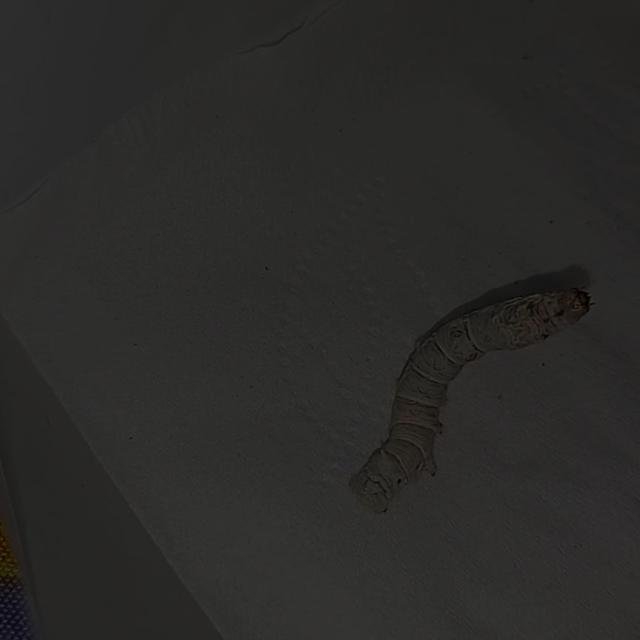Healthy: (326, 272, 608, 536)
